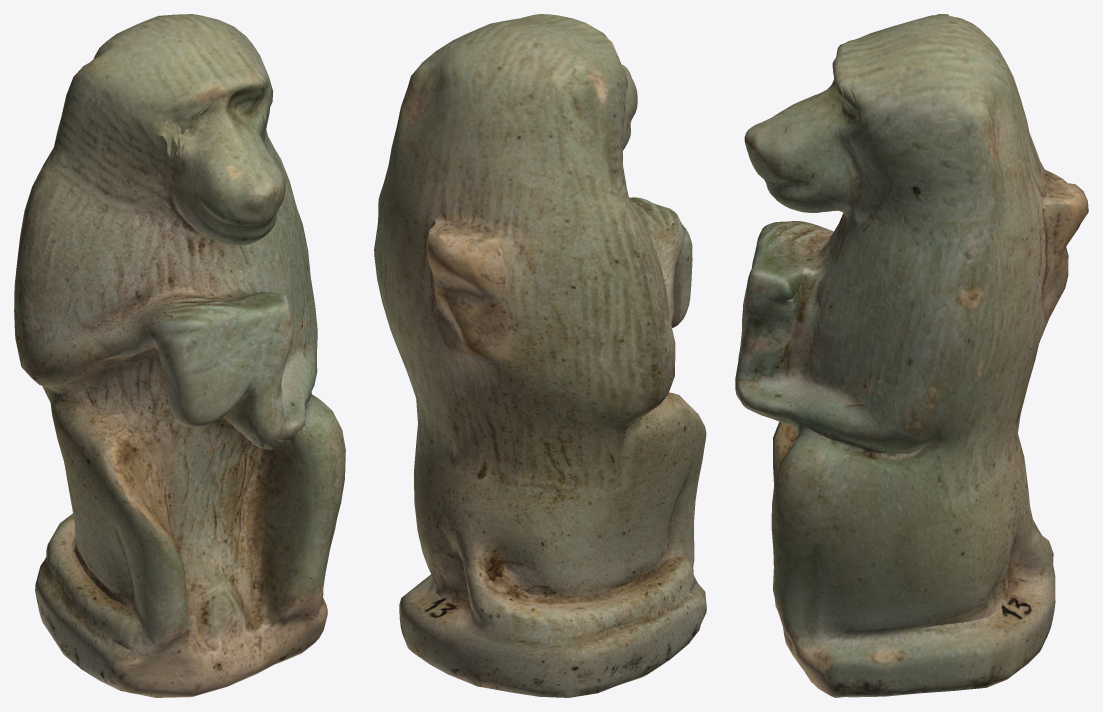
File: thoth_as_baboonnn.fbx
3 renders of one model, left to right at view 1: azimuth 30°, elevation 25°; view 2: azimuth 150°, elevation 25°; view 3: azimuth 270°, elevation 25°, orthographic. The views are drawn at different scales.
Parts seen in each view (by area): view 1: Object_2; view 2: Object_2; view 3: Object_2.
Part boxes in pixels (x1=…): Object_2: x1=14, y1=14, x2=345, y2=697; Object_2: x1=374, y1=14, x2=706, y2=697; Object_2: x1=735, y1=14, x2=1088, y2=697.
Bounding box in the file's own units: 27.48 × 57.32 × 29.25.
1 material, 1 textured.
